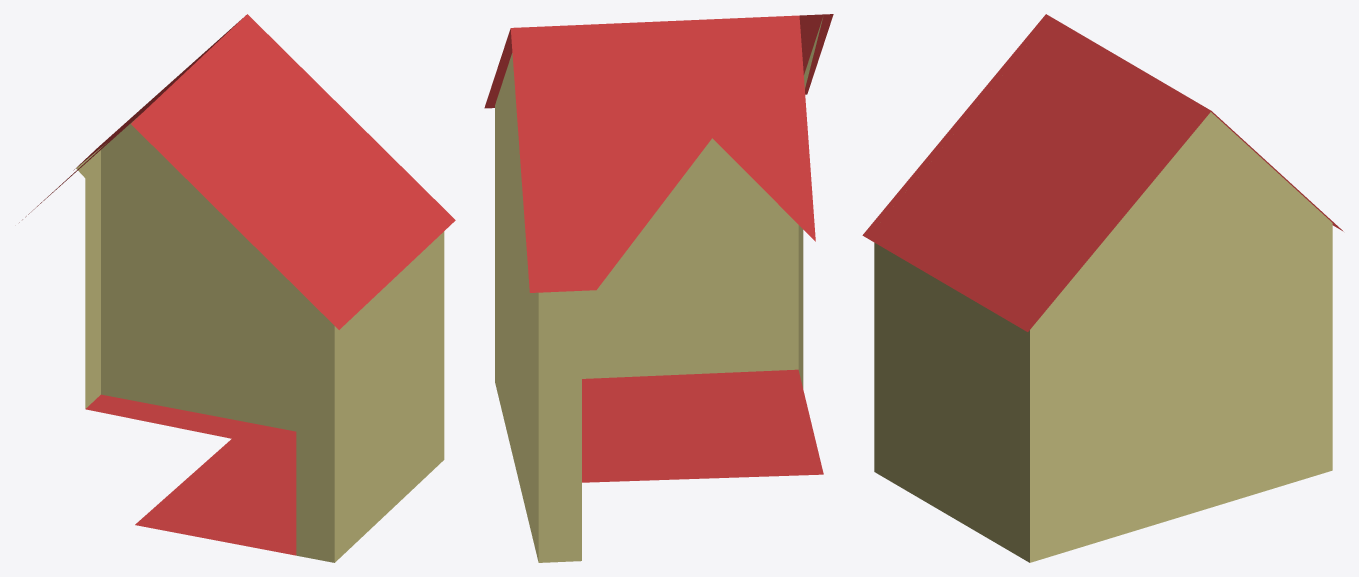
The picture shows the model from 3 angles, left to right: view 1: azimuth 30°, elevation 25°; view 2: azimuth 150°, elevation 25°; view 3: azimuth 270°, elevation 25°; orthographic projection. The views are drawn at different scales.
Size of the model in its own units: 12.21 by 14.03 by 12.87.
